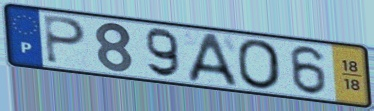6: (288, 44, 329, 98)
8: (93, 21, 136, 75)
9: (144, 28, 182, 79)
A: (186, 32, 241, 88)
O: (234, 37, 284, 92)
P: (42, 13, 89, 67)
